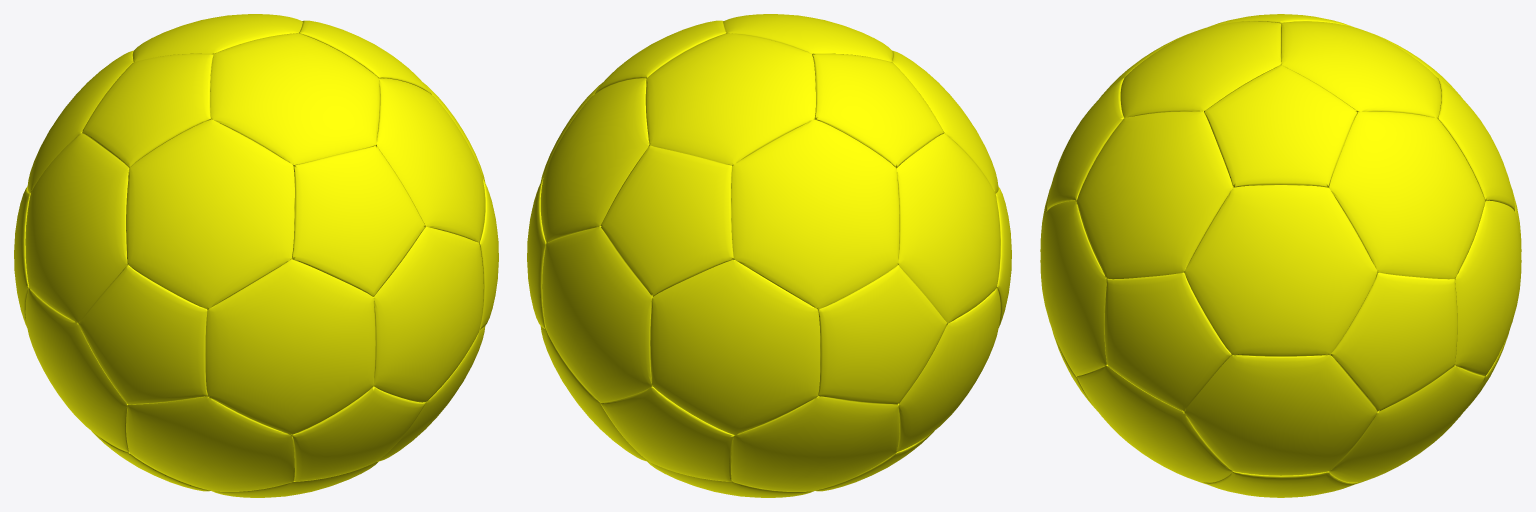
The model's file is football.gltf.
3 renders of one model, left to right at view 1: azimuth 30°, elevation 25°; view 2: azimuth 150°, elevation 25°; view 3: azimuth 270°, elevation 25°, orthographic.
Parts seen in each view (by area): view 1: soccerball_1; view 2: soccerball_1; view 3: soccerball_1.
Boxes of the visible parts, x1,y1,x2,y2 form: soccerball_1: (14, 14, 498, 497); soccerball_1: (527, 14, 1011, 497); soccerball_1: (1040, 14, 1521, 497).
Size of the model in its own units: 0.1106 by 0.1106 by 0.1106.
2 materials, 2 textured.
